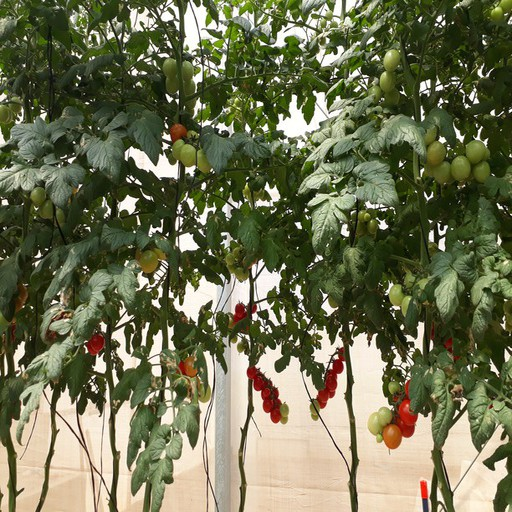green tomato bunch: (414, 122, 491, 186), (169, 122, 222, 171), (389, 274, 441, 318), (365, 47, 403, 107), (29, 186, 78, 227), (164, 56, 197, 109), (129, 237, 173, 274), (223, 243, 261, 280), (347, 207, 379, 246)
mixed tomato bunch: (172, 356, 217, 409)
red tomato bunch: (366, 376, 426, 447), (424, 312, 473, 367), (246, 363, 289, 424), (317, 345, 348, 409), (56, 328, 109, 357), (225, 301, 257, 330)
